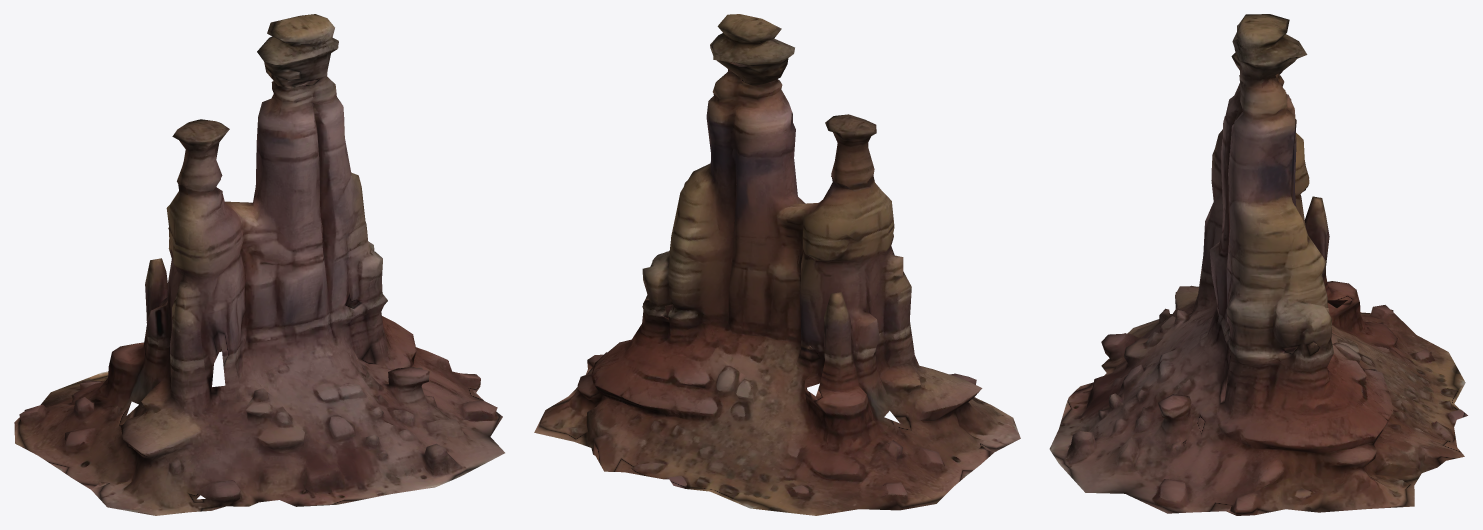
Rendered from desert-mountain-2.glb.
3 renders of one model, left to right at view 1: azimuth 30°, elevation 25°; view 2: azimuth 150°, elevation 25°; view 3: azimuth 270°, elevation 25°, orthographic. The views are drawn at different scales.
Parts seen in each view (by area): view 1: geometry_0; view 2: geometry_0; view 3: geometry_0.
Part boxes in pixels (left/top/right/bottom): geometry_0: left=14, top=14, right=504, bottom=515; geometry_0: left=534, top=14, right=1020, bottom=515; geometry_0: left=1049, top=14, right=1467, bottom=515.
Size of the model in its own units: 0.9557 by 0.8956 by 0.8216.
1 material, 1 textured.
